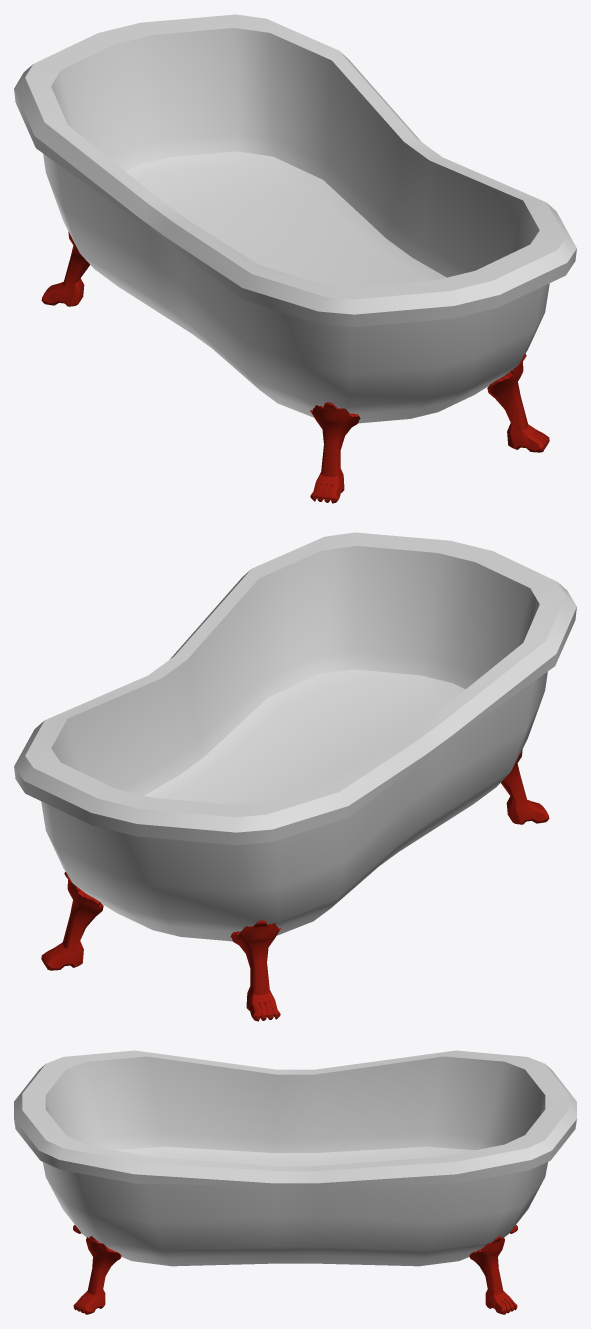
File: SM_Bathtub_02.fbx
3 views of the same model, one above another, from view 1: azimuth 30°, elevation 25°; view 2: azimuth 150°, elevation 25°; view 3: azimuth 270°, elevation 25° (orthographic). The views are drawn at different scales.
Parts seen in each view (by area): view 1: SM_Bathtub_02; view 2: SM_Bathtub_02; view 3: SM_Bathtub_02.
Part boxes in pixels (bbox=[...]): SM_Bathtub_02: bbox=[14, 14, 576, 503]; SM_Bathtub_02: bbox=[14, 532, 576, 1021]; SM_Bathtub_02: bbox=[14, 1050, 576, 1314].
Bounding box in the file's own units: 42.14 × 27.79 × 84.31.
